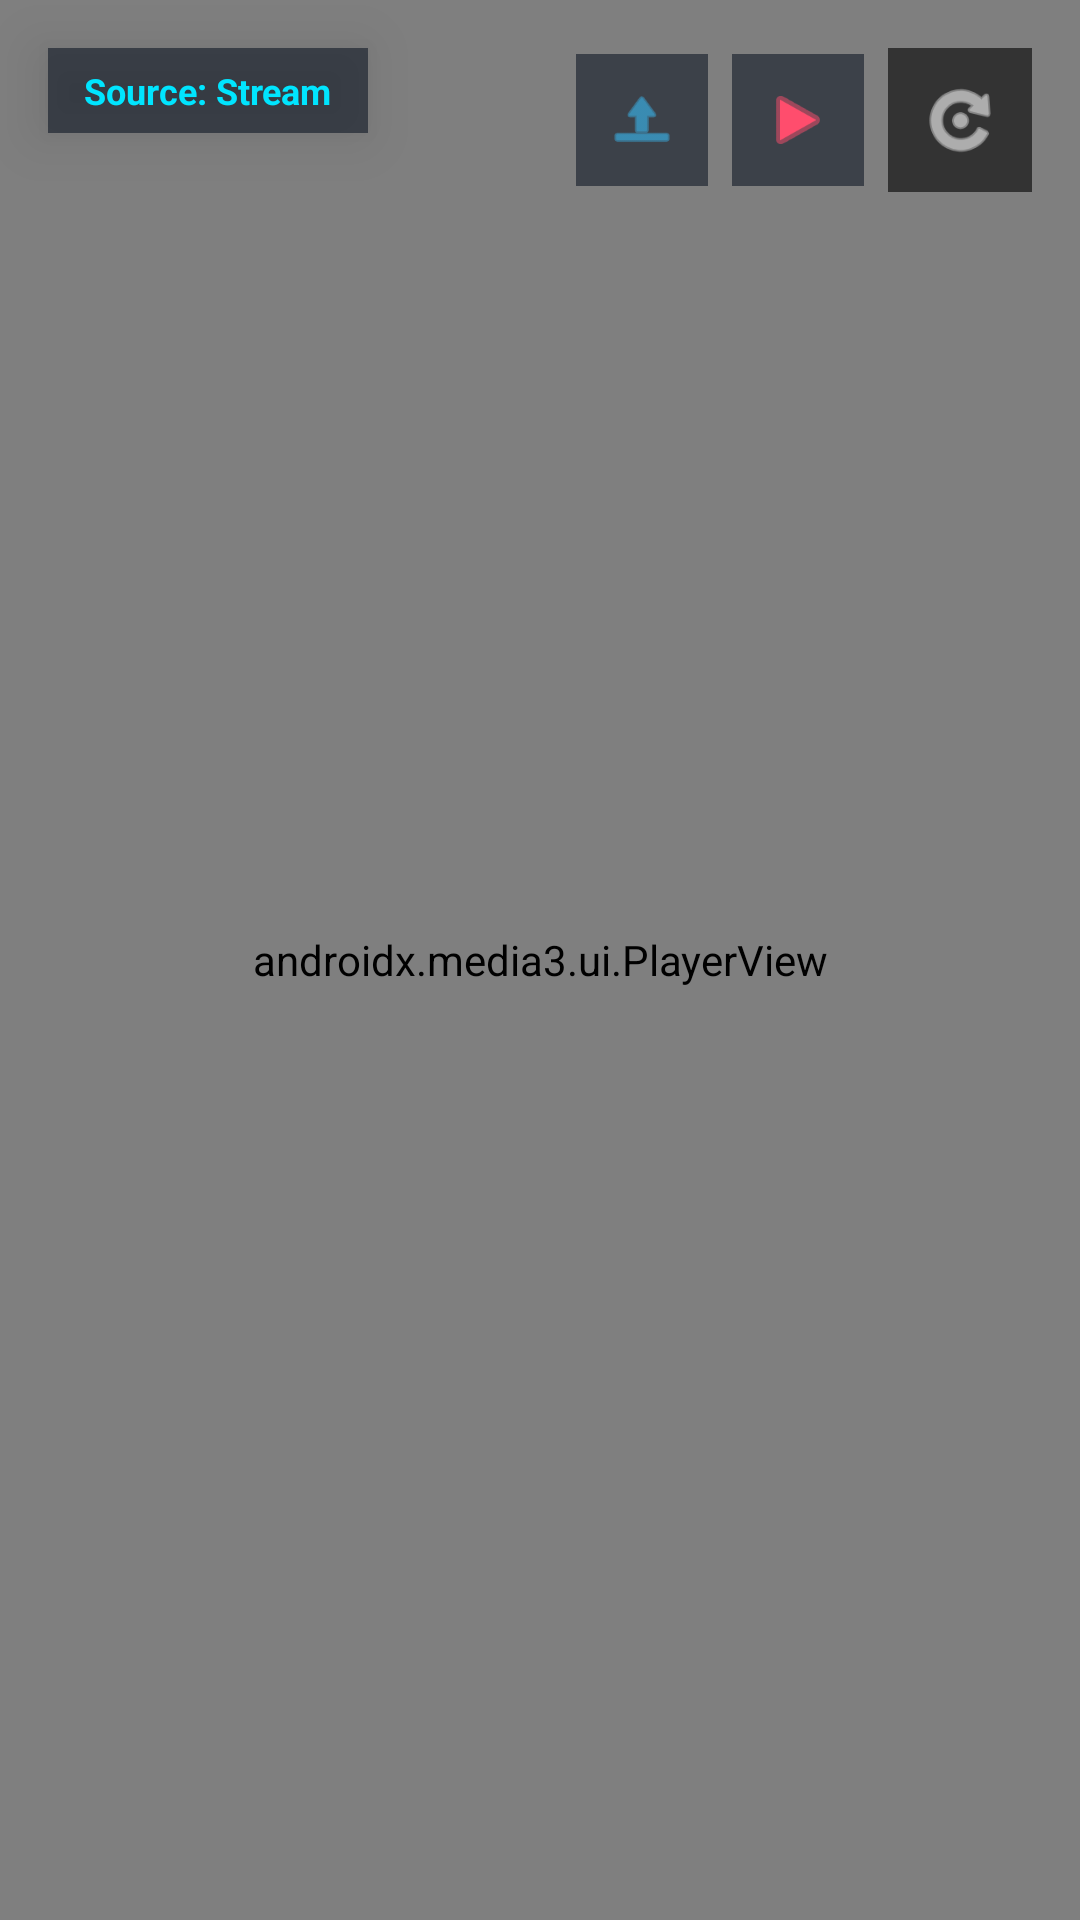

Point at icon controls on the screen. Image size 1080px x 1920px, points as (x=x, y=y).
Cast Local Media: (x=642, y=120)
Cast YouTube: (x=798, y=120)
Rotate Screen: (x=960, y=120)
